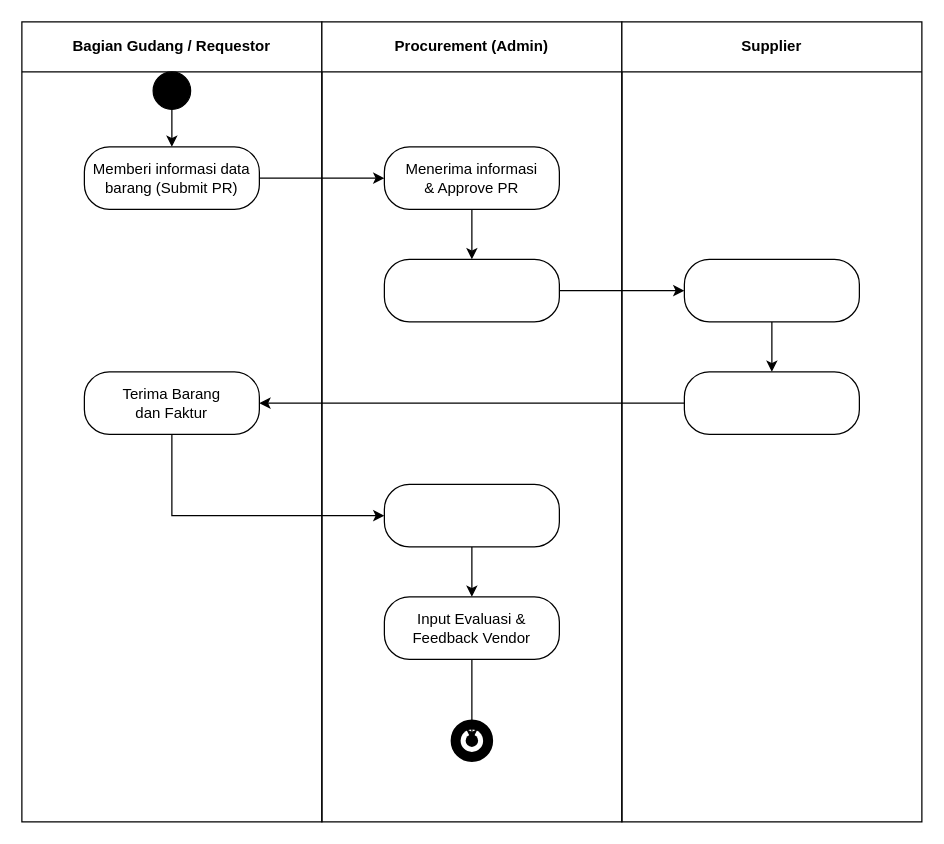
Image size: 944x844. Some labels were removed from this diagram. Each missing label, with the centre of its shape:
Kirim Barang disertai Faktur: the point at 771,402
Terbitkan PO (Purchase Order): the point at 471,290
Terima PO & Mulai Produksi: the point at 771,290
Update Tracker Pengiriman di Sistem: the point at 471,515
